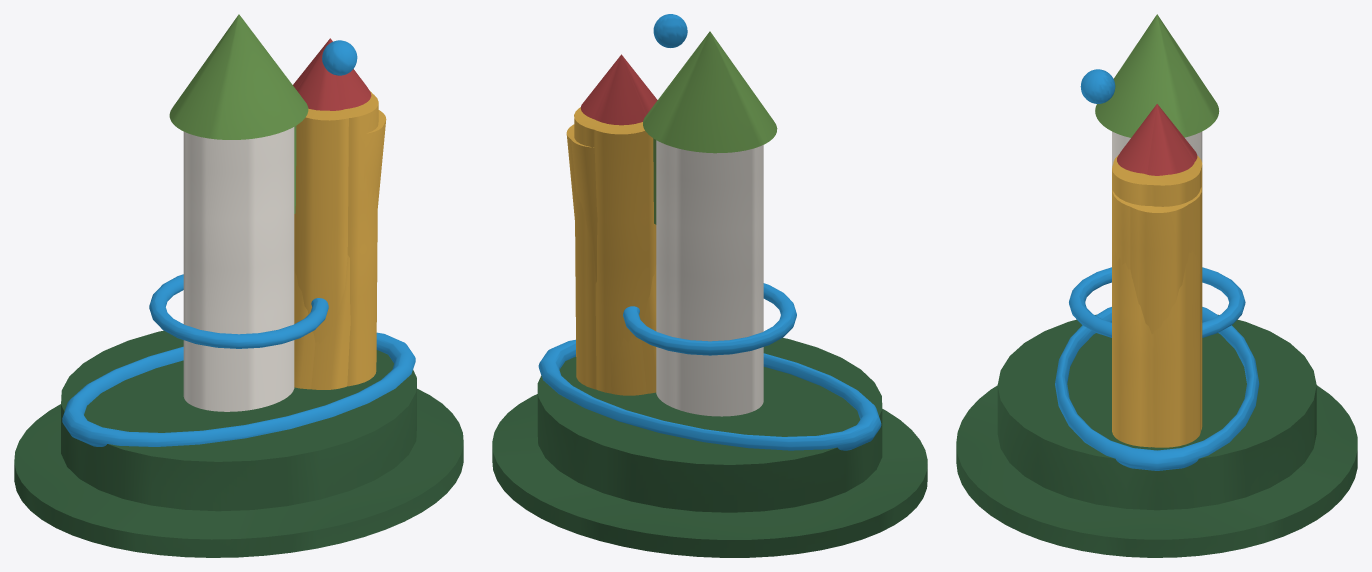
File: 0533_岩石矿物图鉴_自然硫.glb
The picture shows the model from 3 angles, left to right: view 1: azimuth 30°, elevation 25°; view 2: azimuth 150°, elevation 25°; view 3: azimuth 270°, elevation 25°; orthographic projection. The views are drawn at different scales.
Parts seen in each view (by area): view 1: card_0533; view 2: card_0533; view 3: card_0533.
Part boxes in pixels (x1=…): card_0533: x1=14, y1=14, x2=463, y2=557; card_0533: x1=492, y1=14, x2=927, y2=557; card_0533: x1=956, y1=14, x2=1357, y2=557.
Bounding box in the file's own units: 0.9218 × 1 × 0.8128.
